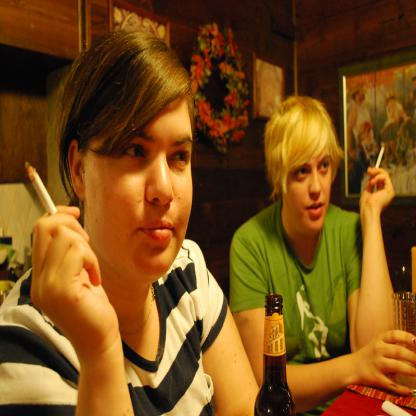drinking: (254, 293, 295, 415)
smoking: (25, 162, 61, 225), (374, 146, 385, 174)
